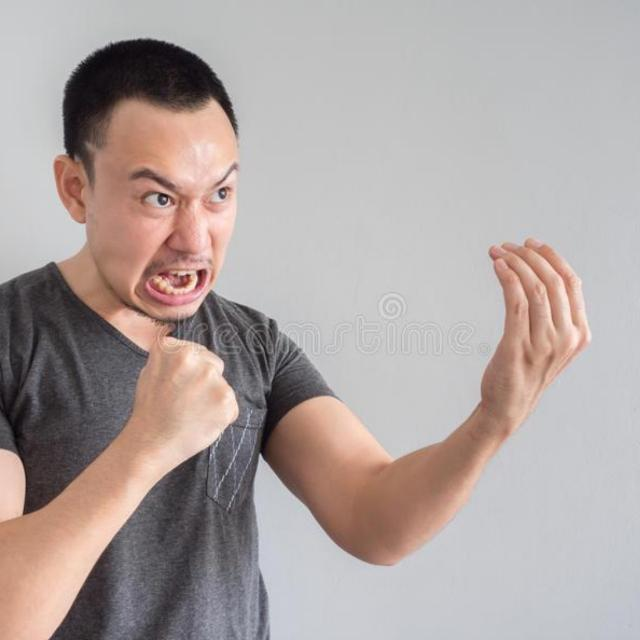angry: (79, 39, 337, 356)
